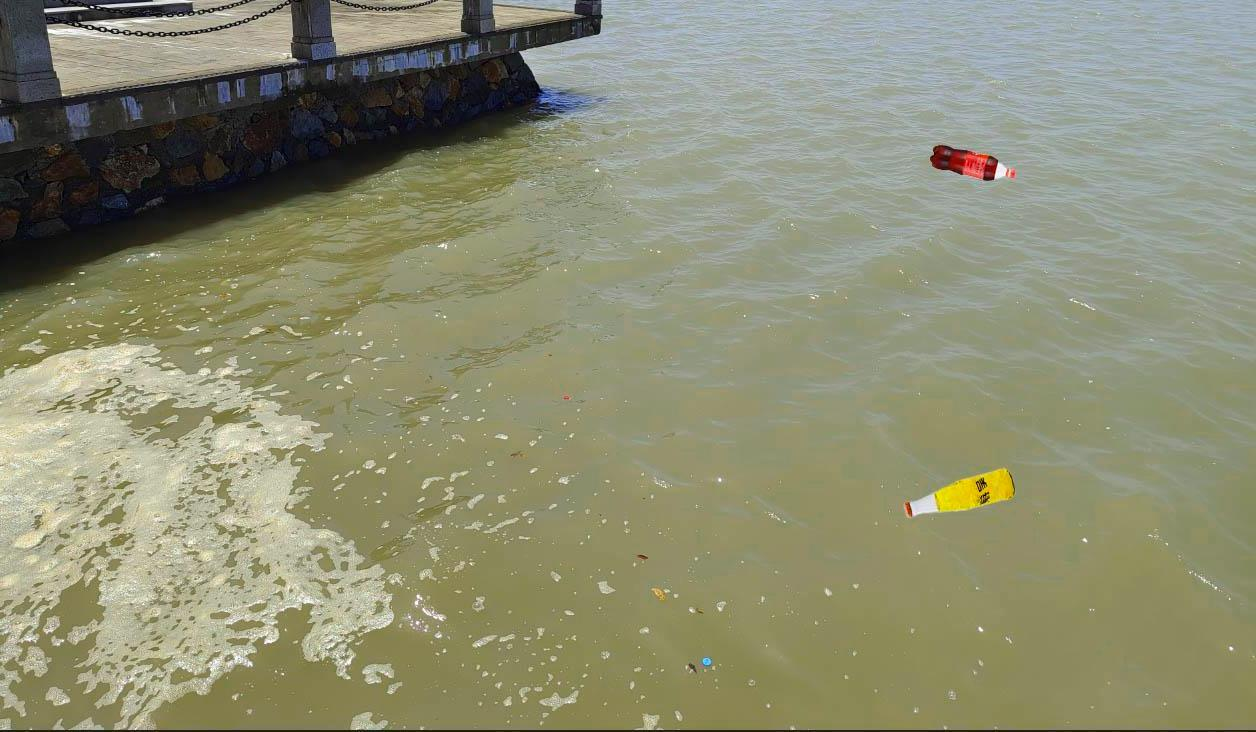Plastic: (906, 465, 1013, 522), (931, 140, 1018, 185)
